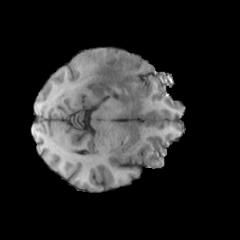glioma: (79, 49, 149, 93)
